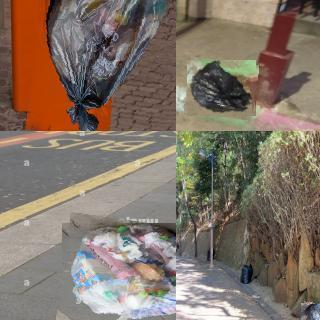Garbage: (31, 0, 176, 131), (58, 217, 176, 320), (185, 58, 258, 119), (239, 261, 255, 285), (299, 302, 320, 320)
